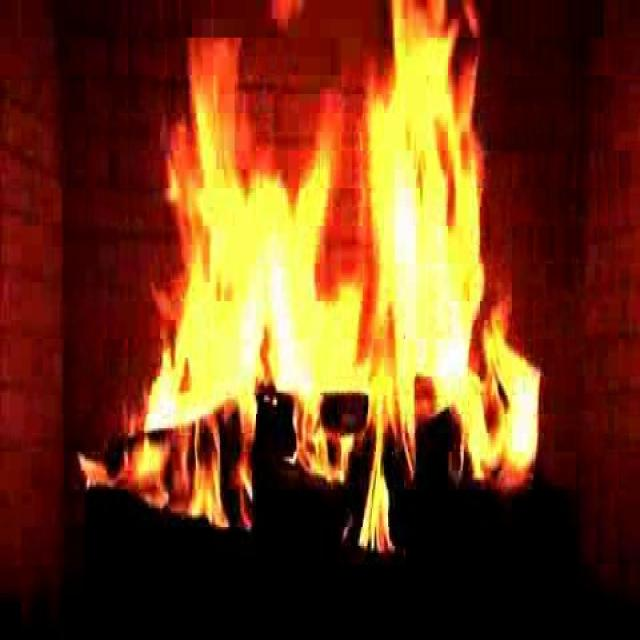fire: (123, 26, 546, 562)
